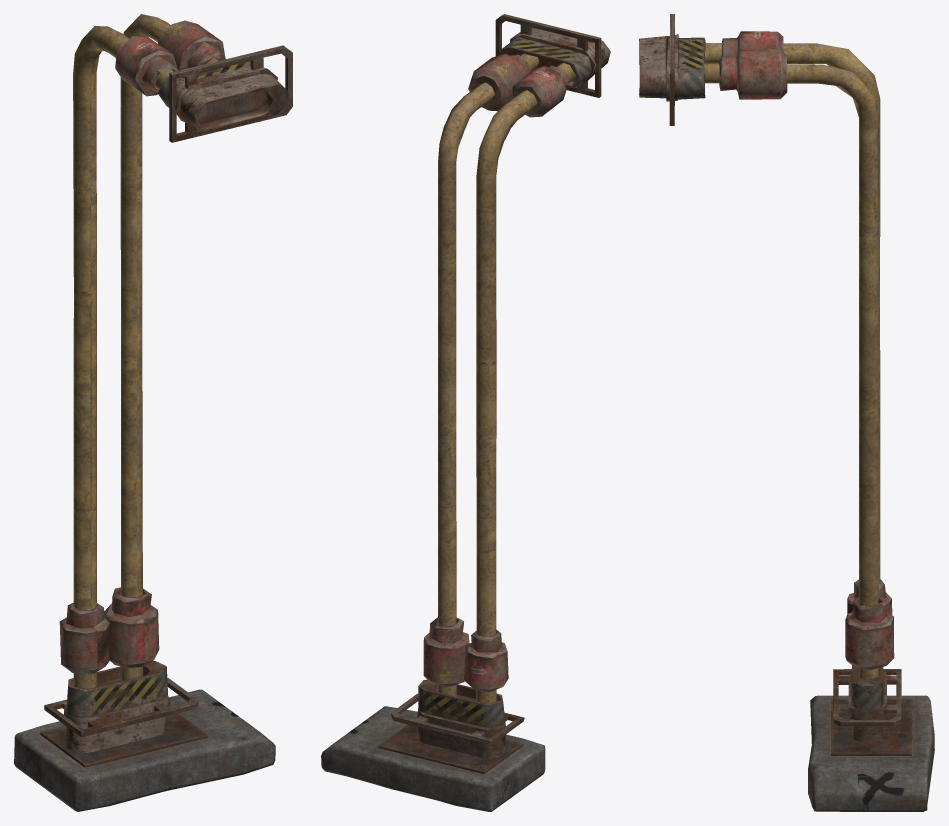
Rendered from SM_SidePipes.fbx.
The picture shows the model from 3 angles, left to right: view 1: azimuth 30°, elevation 25°; view 2: azimuth 150°, elevation 25°; view 3: azimuth 270°, elevation 25°; orthographic projection. The views are drawn at different scales.
Parts seen in each view (by area): view 1: SM_SidePipes_LOD0; view 2: SM_SidePipes_LOD0; view 3: SM_SidePipes_LOD0.
Part boxes in pixels (left/top/right/bottom): SM_SidePipes_LOD0: left=14, top=14, right=292, bottom=811; SM_SidePipes_LOD0: left=321, top=14, right=610, bottom=811; SM_SidePipes_LOD0: left=639, top=14, right=934, bottom=811.
Bounding box in the file's own units: 191 × 270 × 723.
Materials: 1 (1 with a texture image).
